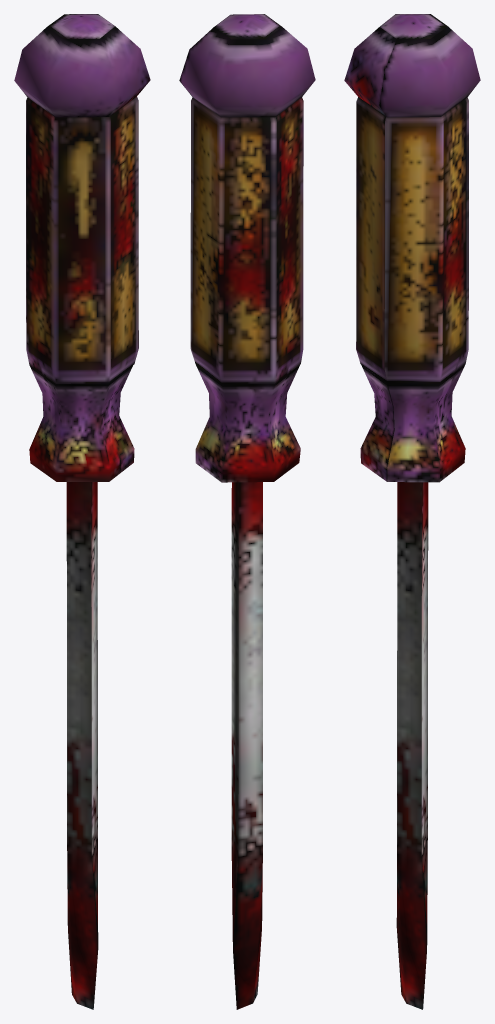
The model's file is exoskeleton.obj.
The picture shows the model from 3 angles, left to right: view 1: azimuth 90°, elevation 25°; view 2: azimuth 210°, elevation 25°; view 3: azimuth 270°, elevation 25°; orthographic projection.
Visible parts, largest first — view 1: screwdriver; view 2: screwdriver; view 3: screwdriver.
Boxes of the visible parts, bbox=[...] form: screwdriver: bbox=[14, 14, 150, 1009]; screwdriver: bbox=[179, 14, 315, 1009]; screwdriver: bbox=[344, 14, 480, 1009].
Bounding box in the file's own units: 0.0481 × 0.4396 × 0.0551.
